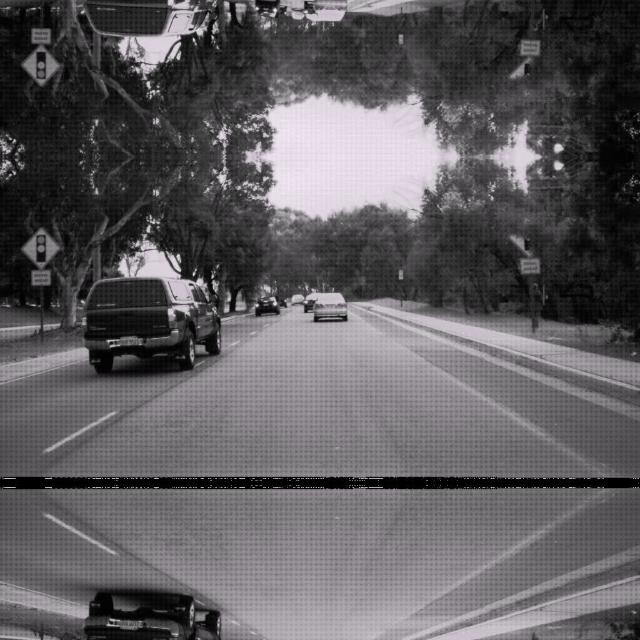signalAhead: (20, 225, 60, 269), (20, 43, 60, 87)
